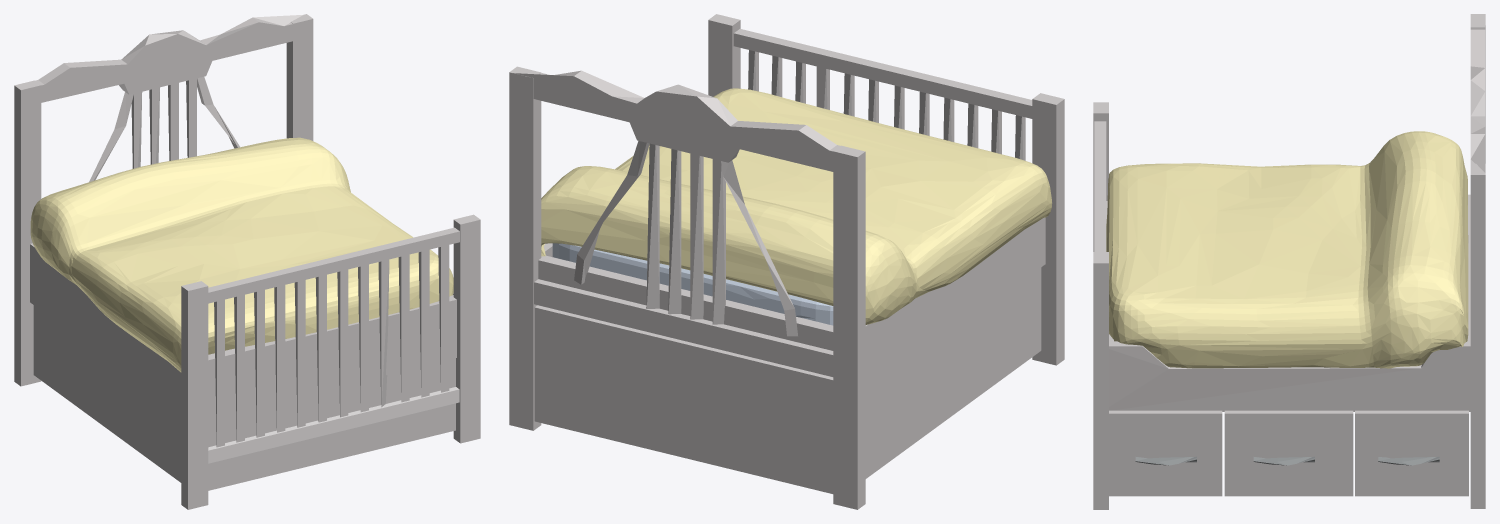
File: sh-contrib-captains-bed.glb
3 renders of one model, left to right at view 1: azimuth 30°, elevation 25°; view 2: azimuth 150°, elevation 25°; view 3: azimuth 270°, elevation 25°, orthographic. The views are drawn at different scales.
Visible parts, largest first — view 1: Cube_3_2, PolyMesh_3, Cube_1_4; view 2: Cube_3_2, PolyMesh_3, mattress; view 3: PolyMesh_3, Cube_3_2, Tube_2.
Part boxes in pixels (bbox=[...]): Cube_3_2: bbox=[14, 14, 480, 509]; PolyMesh_3: bbox=[30, 137, 453, 372]; Cube_1_4: bbox=[208, 387, 459, 463]; Cube_3_2: bbox=[509, 14, 1064, 509]; PolyMesh_3: bbox=[541, 88, 1052, 324]; mattress: bbox=[552, 243, 833, 325]; PolyMesh_3: bbox=[1106, 131, 1468, 368]; Cube_3_2: bbox=[1093, 14, 1485, 509]; Tube_2: bbox=[1135, 456, 1439, 465].
Size of the model in its own units: 0.9996 by 1 by 1.
